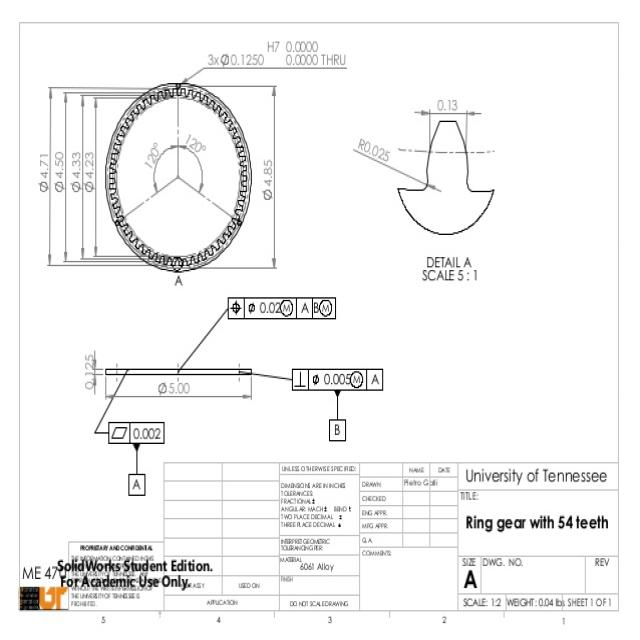Detail view: (352, 86, 498, 288)
Sectional view: (80, 295, 389, 497)
Table 1: (159, 458, 622, 614)
Top view: (38, 38, 348, 286)
